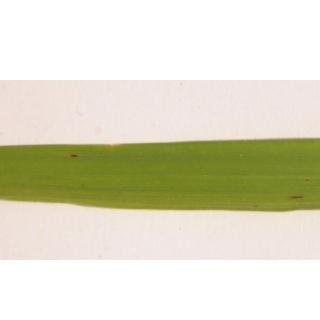bercak-Cokelat: (68, 148, 89, 162), (284, 193, 307, 204)
